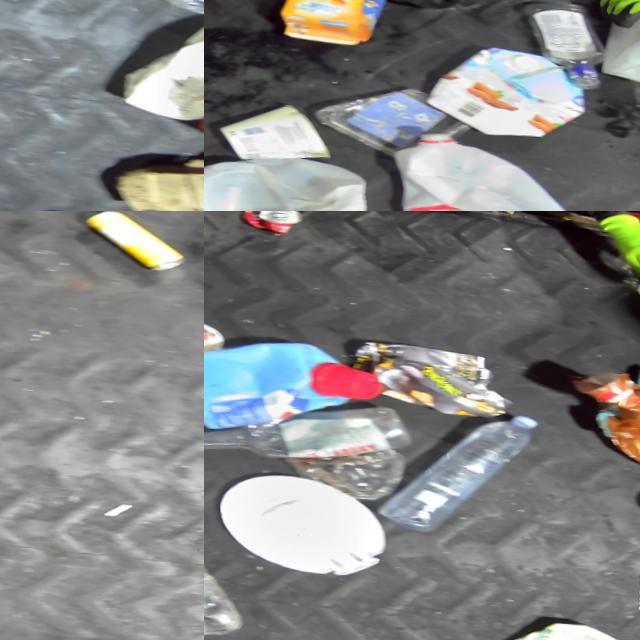can: (79, 211, 191, 268), (233, 211, 304, 231)
milk_jug: (384, 120, 579, 211), (204, 145, 368, 211), (593, 0, 640, 87)
non_white_jug: (204, 322, 383, 435)
plastic_bottle: (394, 393, 538, 541), (204, 380, 410, 471)
